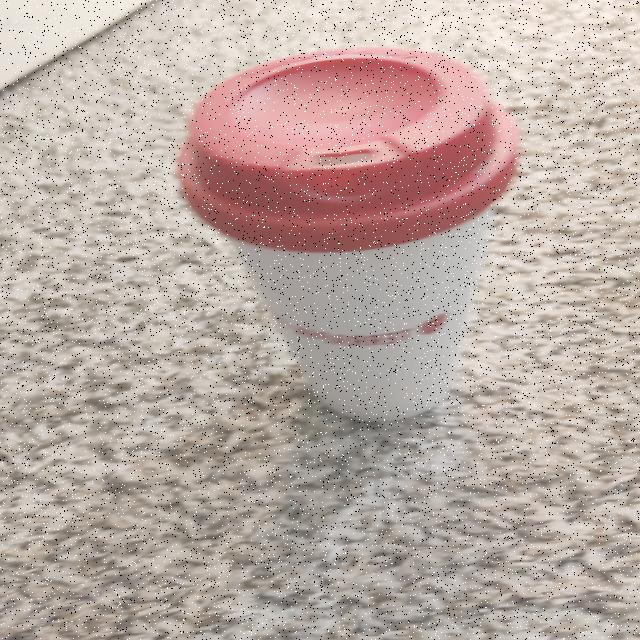mug: (185, 51, 507, 422)
